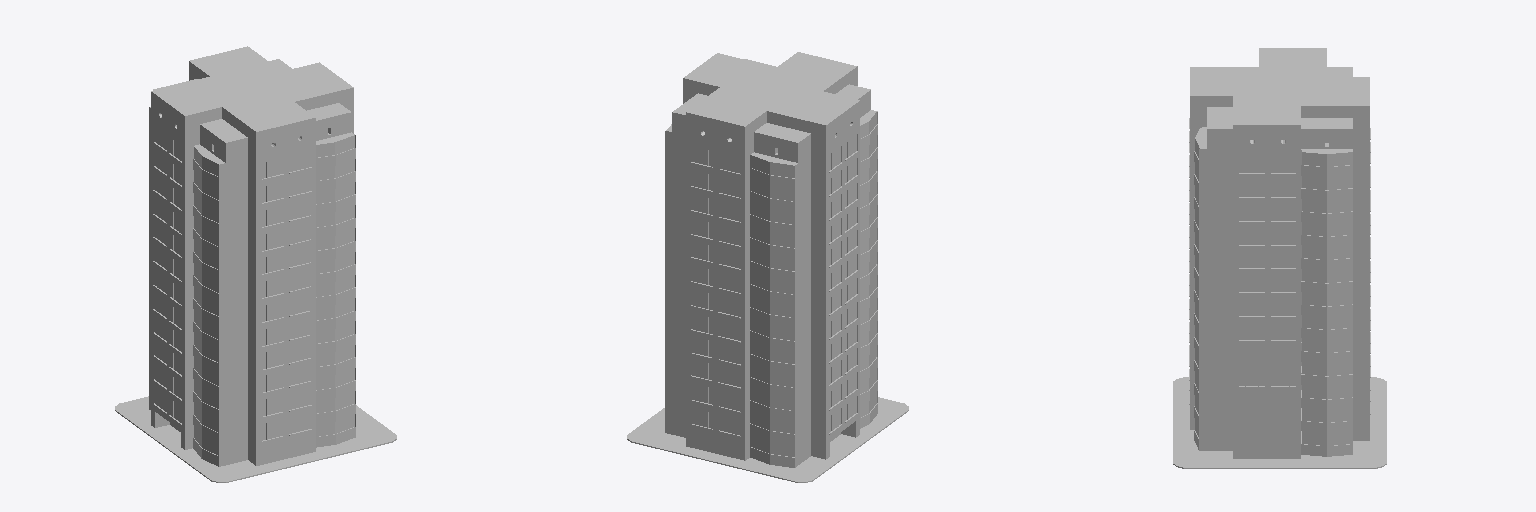
File: Building_Old_Low_Poly.obj
3 views of the same model, side by side, from view 1: azimuth 30°, elevation 25°; view 2: azimuth 150°, elevation 25°; view 3: azimuth 270°, elevation 25° (orthographic).
Visible parts, largest first — view 1: Mesh165 Group_10_1 Model, Mesh166 Group_12_1 Model, Mesh76 Group_8_22 Group_10_1 Model, Mesh73 Group_8_20 Group_10_1 Model, Mesh43 Group_8_8 Group_10_1 Model, Mesh75 Group_8_21 Group_10_1 Model, Mesh82 Group_8_24 Group_10_1 Model, Mesh87 Group_8_26 Group_10_1 Model, Mesh88 Group_8_27 Group_10_1 Model, Mesh90 Group_8_29 Group_10_1 Model, Mesh91 Group_8_30 Group_10_1 Model, Mesh92 Group_8_31 Group_10_1 Model (+16 smaller); view 2: Mesh165 Group_10_1 Model, Mesh166 Group_12_1 Model, Mesh140 Group_8_46 Group_10_1 Model, Mesh149 Group_8_48 Group_10_1 Model, Mesh156 Group_8_49 Group_10_1 Model, Mesh129 Group_8_41 Group_10_1 Model, Mesh133 Group_8_43 Group_10_1 Model, Mesh137 Group_8_45 Group_10_1 Model, Mesh160 Group_8_52 Group_10_1 Model, Mesh132 Group_8_42 Group_10_1 Model, Mesh136 Group_8_44 Group_10_1 Model, Mesh159 Group_8_51 Group_10_1 Model (+4 smaller); view 3: Mesh165 Group_10_1 Model, Mesh166 Group_12_1 Model, Mesh119 Group_8_35 Group_10_1 Model, Mesh3 Group_8_3 Group_10_1 Model, Mesh118 Group_8_34 Group_10_1 Model, Mesh1 Group_8_1 Group_10_1 Model, Mesh121 Group_8_36 Group_10_1 Model, Mesh4 Group_8_4 Group_10_1 Model, Mesh6 Group_8_5 Group_10_1 Model, Mesh7 Group_8_6 Group_10_1 Model, Mesh95 Group_8_33 Group_10_1 Model, Mesh122 Group_8_37 Group_10_1 Model (+3 smaller).
Part boxes in pixels (x1,y1,x2,y2): Mesh165 Group_10_1 Model: (151,46,353,465); Mesh166 Group_12_1 Model: (115,396,396,482); Mesh76 Group_8_22 Group_10_1 Model: (316,132,355,168); Mesh73 Group_8_20 Group_10_1 Model: (193,144,225,187); Mesh43 Group_8_8 Group_10_1 Model: (316,414,355,447); Mesh75 Group_8_21 Group_10_1 Model: (316,345,355,377); Mesh82 Group_8_24 Group_10_1 Model: (316,321,355,354); Mesh87 Group_8_26 Group_10_1 Model: (316,205,355,237); Mesh88 Group_8_27 Group_10_1 Model: (316,228,355,261); Mesh90 Group_8_29 Group_10_1 Model: (316,159,355,191); Mesh91 Group_8_30 Group_10_1 Model: (316,252,355,284); Mesh92 Group_8_31 Group_10_1 Model: (316,275,355,307); Mesh165 Group_10_1 Model: (672,52,870,464); Mesh166 Group_12_1 Model: (627,397,908,482); Mesh140 Group_8_46 Group_10_1 Model: (750,152,797,188); Mesh149 Group_8_48 Group_10_1 Model: (750,225,797,258); Mesh156 Group_8_49 Group_10_1 Model: (750,318,797,351); Mesh129 Group_8_41 Group_10_1 Model: (750,248,797,281); Mesh133 Group_8_43 Group_10_1 Model: (750,388,797,421); Mesh137 Group_8_45 Group_10_1 Model: (750,434,797,467); Mesh160 Group_8_52 Group_10_1 Model: (750,341,797,374); Mesh132 Group_8_42 Group_10_1 Model: (750,179,797,212); Mesh136 Group_8_44 Group_10_1 Model: (750,272,797,305); Mesh159 Group_8_51 Group_10_1 Model: (750,365,797,398); Mesh165 Group_10_1 Model: (1190,48,1369,458); Mesh166 Group_12_1 Model: (1173,377,1386,468); Mesh119 Group_8_35 Group_10_1 Model: (1301,149,1352,177); Mesh3 Group_8_3 Group_10_1 Model: (1301,315,1352,340); Mesh118 Group_8_34 Group_10_1 Model: (1301,408,1352,433); Mesh1 Group_8_1 Group_10_1 Model: (1301,222,1352,247); Mesh121 Group_8_36 Group_10_1 Model: (1301,245,1352,270); Mesh4 Group_8_4 Group_10_1 Model: (1301,339,1352,363); Mesh6 Group_8_5 Group_10_1 Model: (1301,362,1352,386); Mesh7 Group_8_6 Group_10_1 Model: (1301,269,1352,293); Mesh95 Group_8_33 Group_10_1 Model: (1301,432,1352,456); Mesh122 Group_8_37 Group_10_1 Model: (1301,176,1352,200).
Bounding box in the file's own units: 25 × 43.15 × 25.